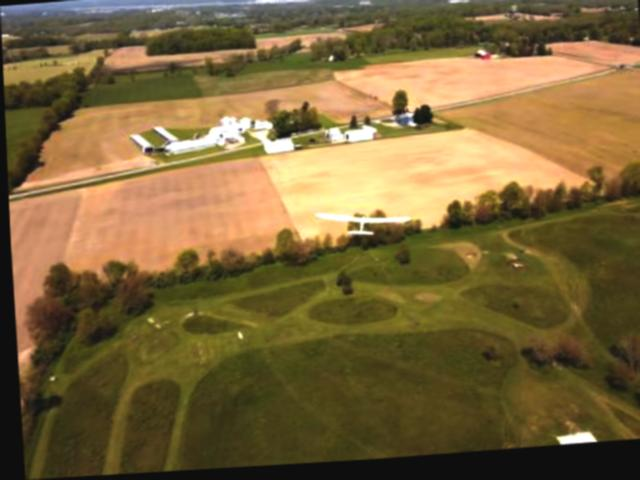uav: (307, 197, 420, 260)
